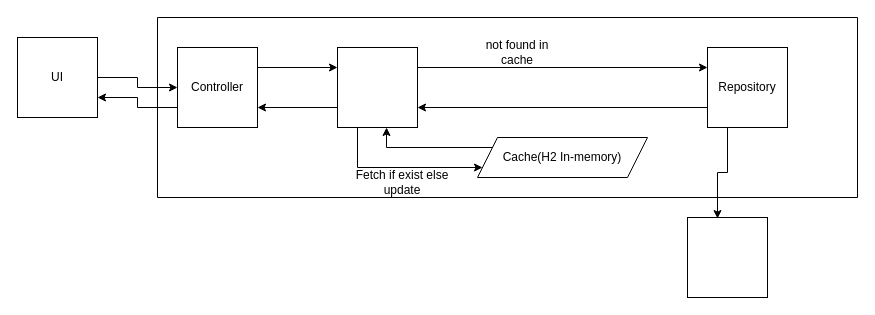
Image size: 875x315. Some labels were removed from this diagram. Each missing label, with the centre of its shape:
"Service" goes at (377,87).
"Third Party API" goes at (727,257).
